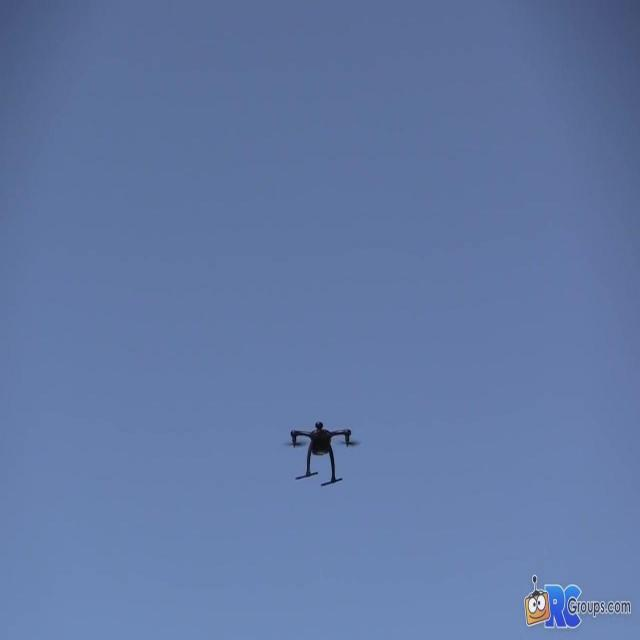UAV: (283, 422, 361, 486)
